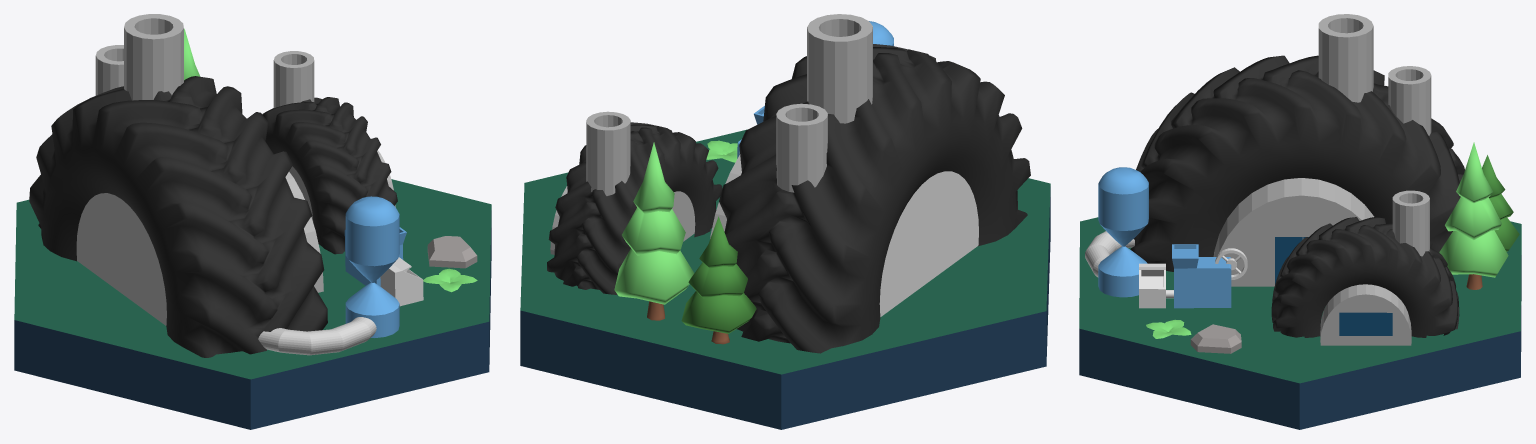
Rendered from Macro - transportation factory lv2 wm 3.fbx.
The picture shows the model from 3 angles, left to right: view 1: azimuth 30°, elevation 25°; view 2: azimuth 150°, elevation 25°; view 3: azimuth 270°, elevation 25°; orthographic projection. The views are drawn at different scales.
Parts seen in each view (by area): view 1: Cylinder.154, Cylinder.002, Cylinder.001, Cylinder.009, Cylinder.021, Cylinder.010, Cube.001, Cylinder.012, Cube.011, Rock Type4 04 mesh.002, Cylinder.013, Cylinder.005 (+2 smaller); view 2: Cylinder.154, Cylinder.002, Cylinder.001, Cylinder.009, Tree_Spruce_tiny_01.005, Cylinder.010, Tree_Spruce_tiny_01.007, Cylinder.013, Cylinder.012, Cylinder.017, Plane.005; view 3: Cylinder.154, Cylinder.002, Cylinder.001, Cylinder.005, Tree_Spruce_tiny_01.005, Cylinder.021, Cylinder.010, Cylinder.008, Cube.012, Cylinder.013, Cylinder.012, Plane.006 (+6 smaller).
Part boxes in pixels (x1,y1,x2,y2): Cylinder.154: [14, 179, 491, 429]; Cylinder.002: [29, 76, 327, 357]; Cylinder.001: [262, 97, 397, 254]; Cylinder.009: [76, 193, 166, 325]; Cylinder.021: [345, 196, 399, 337]; Cylinder.010: [124, 14, 183, 100]; Cube.001: [258, 317, 376, 355]; Cylinder.012: [273, 51, 314, 107]; Cube.011: [380, 257, 423, 306]; Rock Type4 04 mesh.002: [427, 236, 477, 268]; Cylinder.013: [95, 45, 123, 95]; Cylinder.005: [285, 172, 323, 292]; Cylinder.154: [520, 129, 1050, 429]; Cylinder.002: [719, 44, 1030, 353]; Cylinder.001: [547, 122, 722, 294]; Cylinder.009: [879, 171, 978, 316]; Tree_Spruce_tiny_01.005: [614, 142, 694, 320]; Cylinder.010: [807, 14, 872, 123]; Tree_Spruce_tiny_01.007: [681, 216, 756, 344]; Cylinder.013: [776, 103, 827, 192]; Cylinder.012: [586, 111, 630, 195]; Cylinder.017: [672, 191, 695, 241]; Plane.005: [706, 140, 737, 162]; Cylinder.154: [1079, 217, 1521, 429]; Cylinder.002: [1130, 55, 1464, 271]; Cylinder.001: [1271, 217, 1459, 337]; Cylinder.005: [1213, 178, 1374, 286]; Tree_Spruce_tiny_01.005: [1439, 142, 1508, 289]; Cylinder.021: [1098, 167, 1148, 297]; Cylinder.010: [1318, 14, 1373, 102]; Cylinder.008: [1320, 284, 1411, 345]; Cube.012: [1172, 244, 1231, 308]; Cylinder.013: [1388, 66, 1431, 135]; Cylinder.012: [1392, 190, 1429, 256]; Plane.006: [1339, 312, 1392, 335].
Size of the model in its own units: 197 by 133 by 172.
